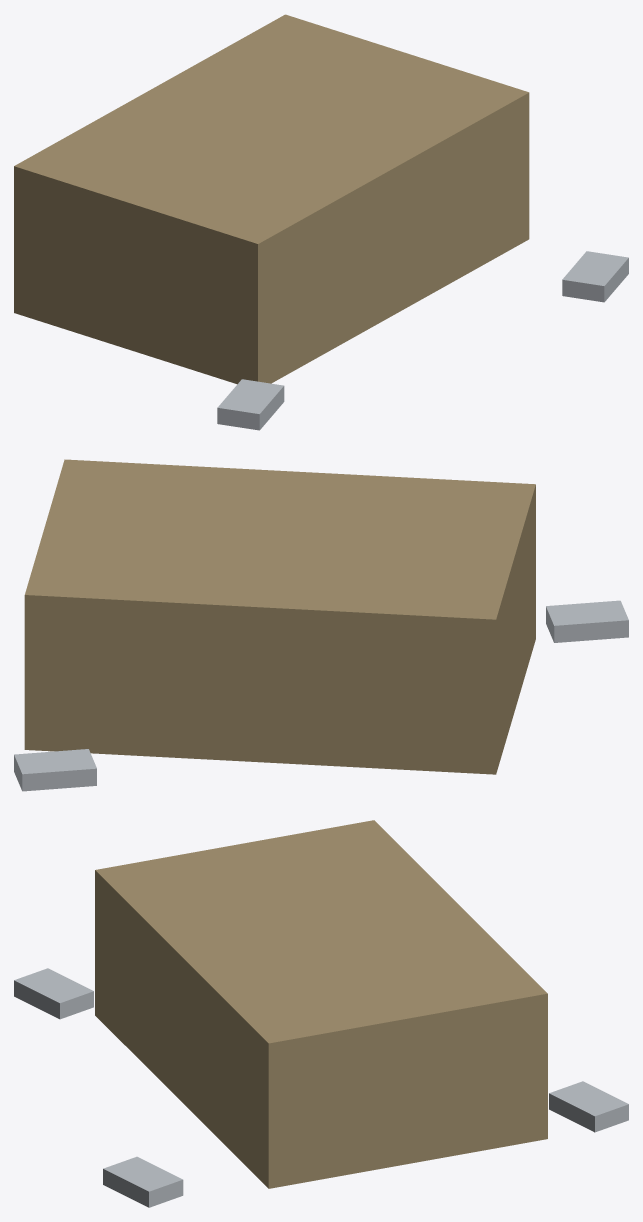
File: reloj_caido.glb
3 views of the same model, one above another, from view 1: azimuth 30°, elevation 25°; view 2: azimuth 150°, elevation 25°; view 3: azimuth 270°, elevation 25° (orthographic). The views are drawn at different scales.
Parts seen in each view (by area): view 1: RelojCaido; view 2: RelojCaido; view 3: RelojCaido.
Boxes of the visible parts, x1,y1,x2,y2 form: RelojCaido: (14, 14, 628, 430); RelojCaido: (14, 459, 628, 791); RelojCaido: (14, 820, 628, 1207).
Bounding box in the file's own units: 0.6432 × 0.18 × 0.6898.
